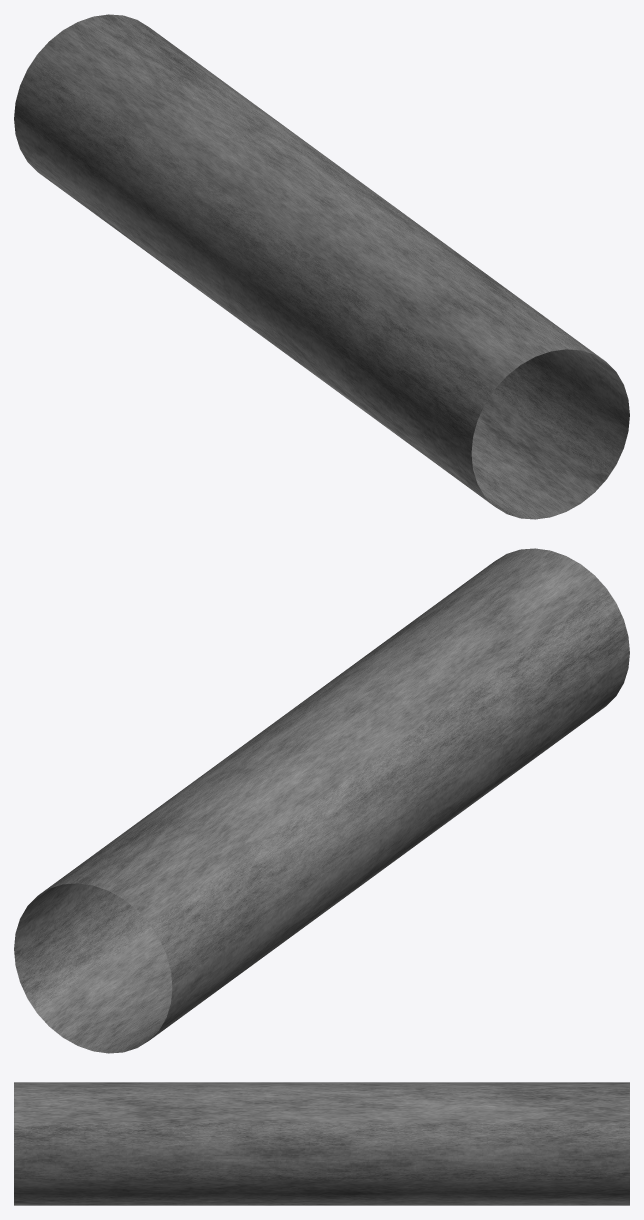
File: frame_straight.fbx
3 views of the same model, one above another, from view 1: azimuth 30°, elevation 25°; view 2: azimuth 150°, elevation 25°; view 3: azimuth 270°, elevation 25° (orthographic). The views are drawn at different scales.
Parts seen in each view (by area): view 1: Frame_Straight; view 2: Frame_Straight; view 3: Frame_Straight.
Boxes of the visible parts, box(x1,y1,x2,y2) form: Frame_Straight: box(14, 14, 629, 519); Frame_Straight: box(14, 548, 629, 1053); Frame_Straight: box(14, 1082, 629, 1205).
Size of the model in its own units: 5 by 5 by 25.
1 material, 1 textured.
